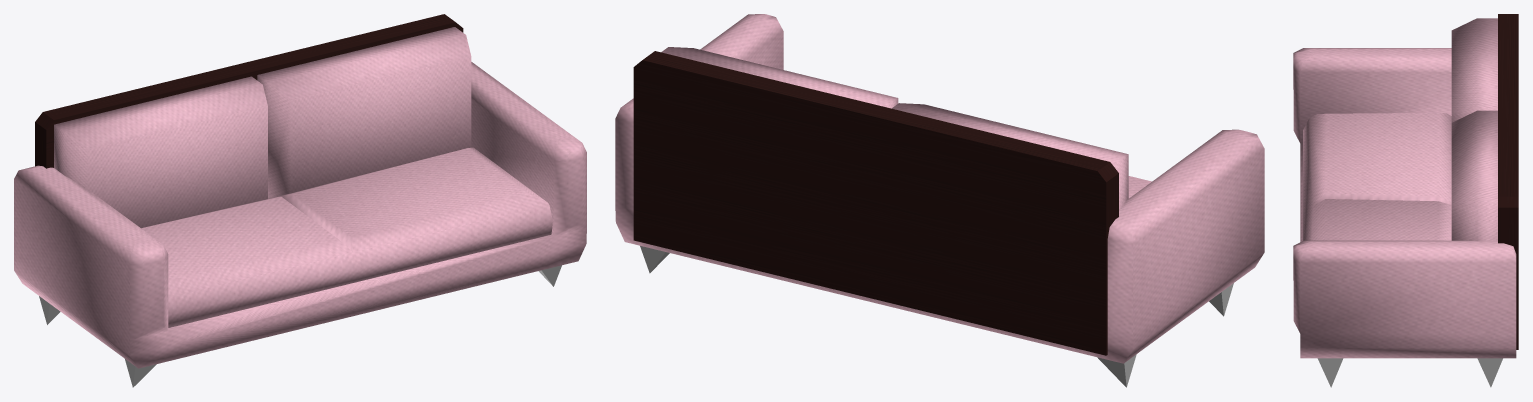
File: Loveseat_06.FBX
3 views of the same model, side by side, from view 1: azimuth 30°, elevation 25°; view 2: azimuth 150°, elevation 25°; view 3: azimuth 270°, elevation 25° (orthographic). The views are drawn at different scales.
Parts seen in each view (by area): view 1: Loveseat; view 2: Loveseat; view 3: Loveseat.
Boxes of the visible parts, x1,y1,x2,y2 form: Loveseat: (14,14,586,387); Loveseat: (615,14,1264,387); Loveseat: (1293,14,1518,387).
Bounding box in the file's own units: 372 × 157 × 171.
